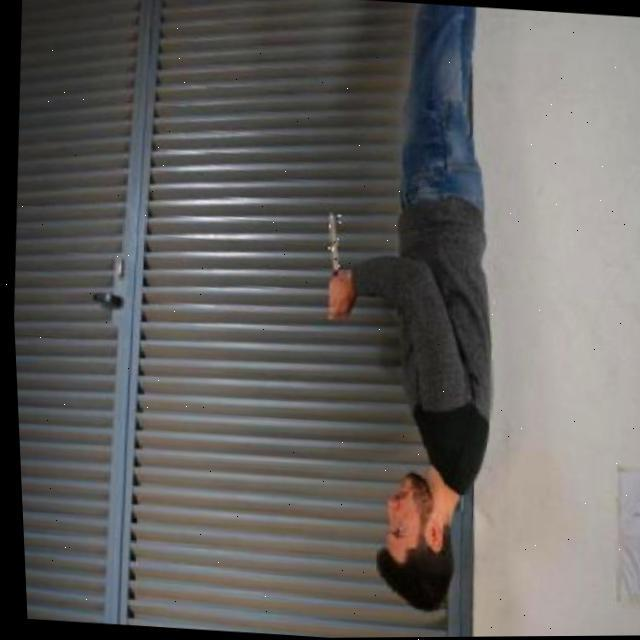knife: (322, 212, 340, 274)
